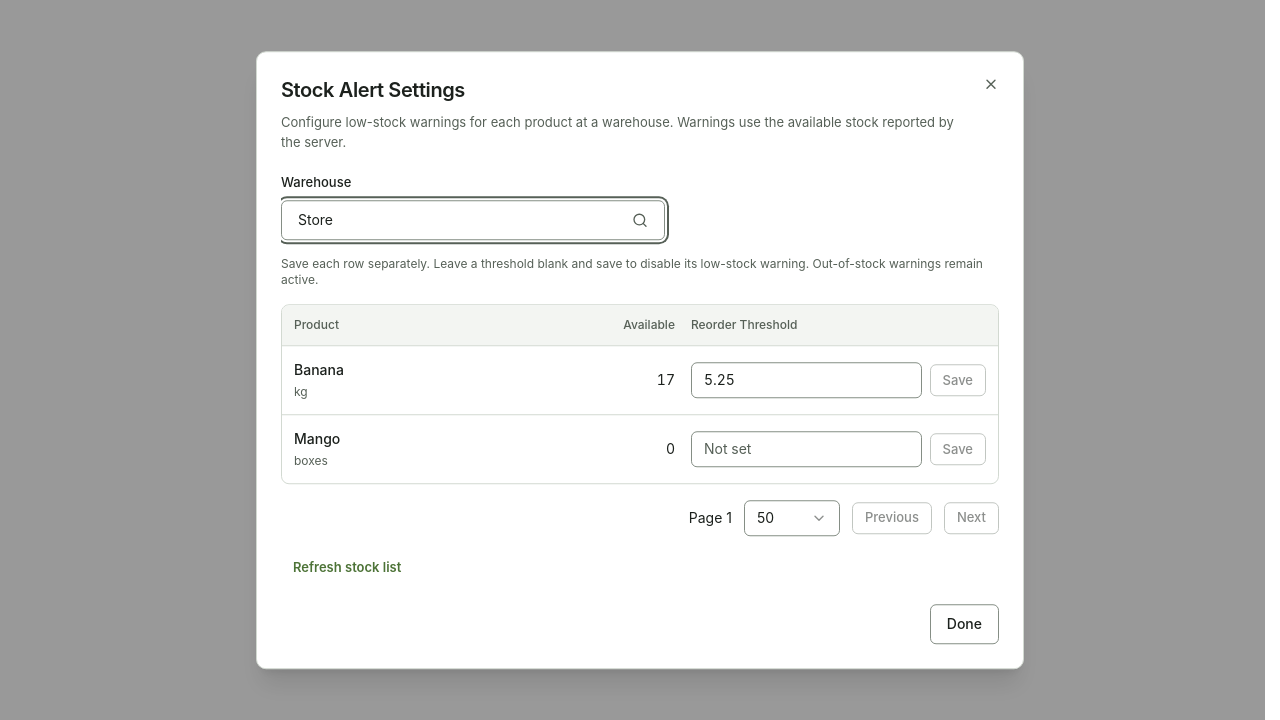
Test case: supports clearing a configured threshold with null and setting an unset threshold to zero
Clear the field named "Reorder threshold for Banana" at (806, 380), box [691,362,922,398]
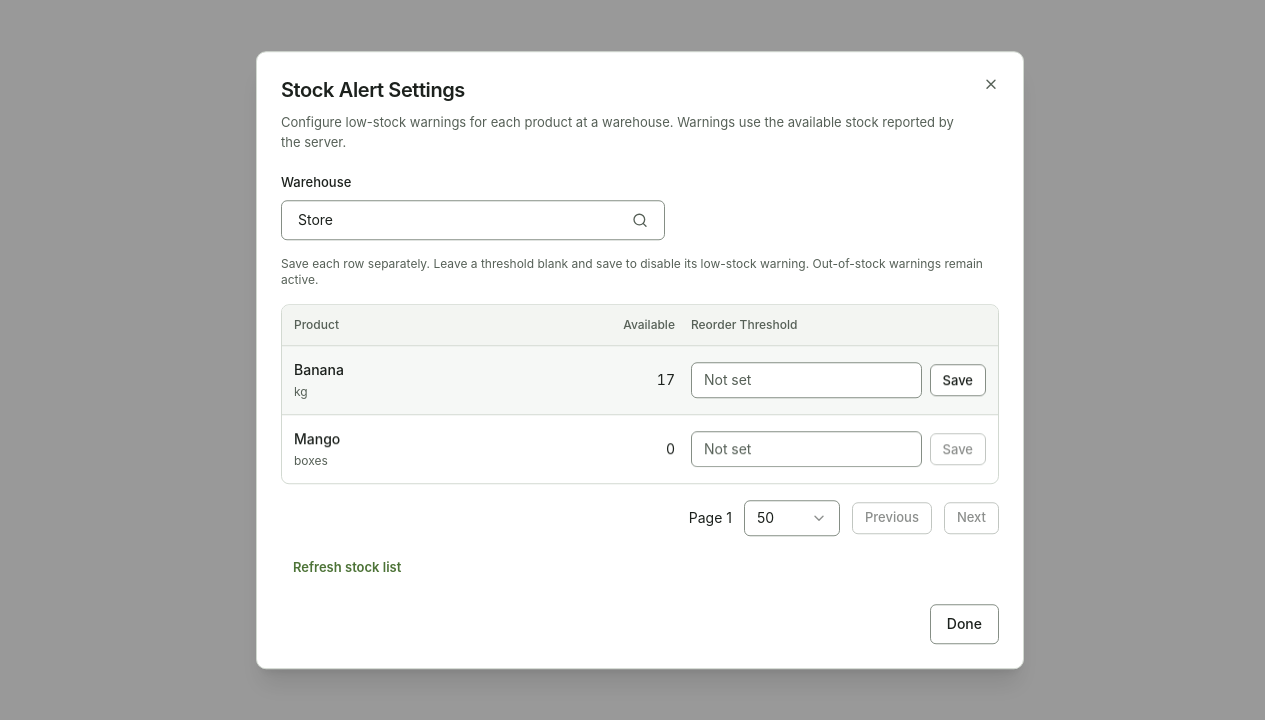
Click the button "Save" in the row of "Banana" at (958, 380), box [930,364,986,396]
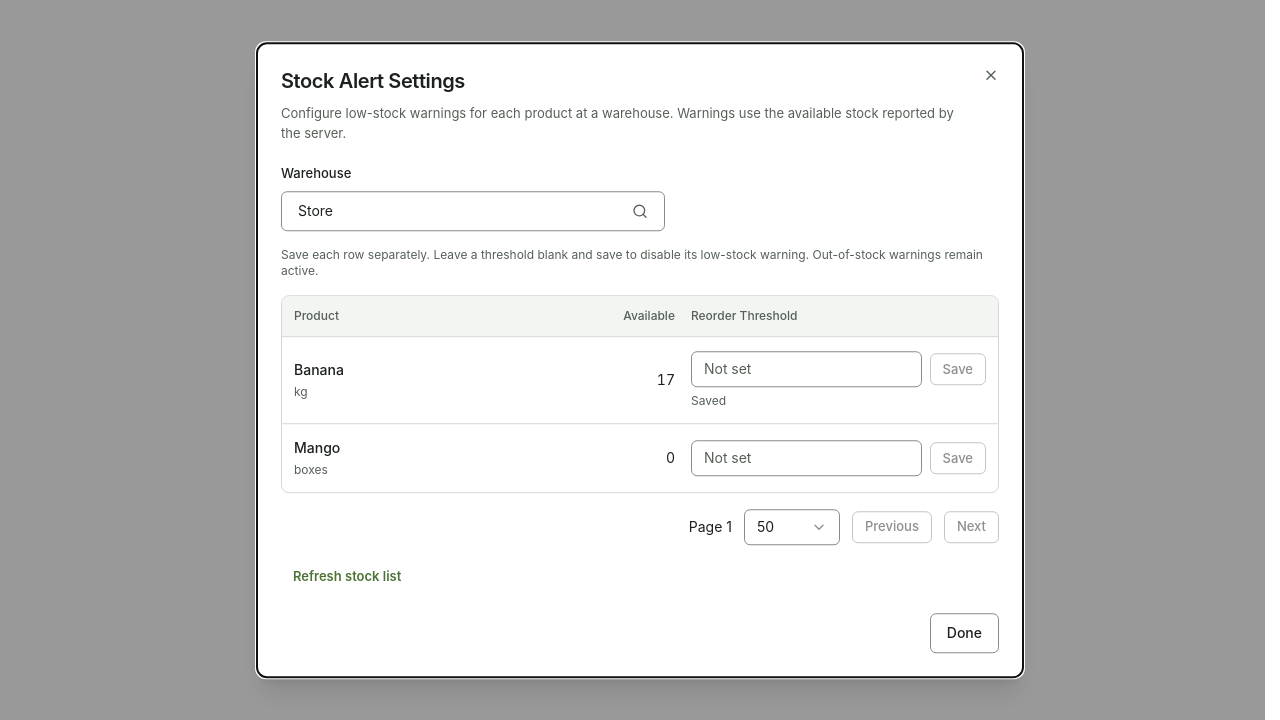
Expected: the text "Saved" is shown, [691,393,726,408]
Type "0.00" into the field with placeholder "Not set" in the row of "Mango" at (806, 458), box [691,440,922,476]
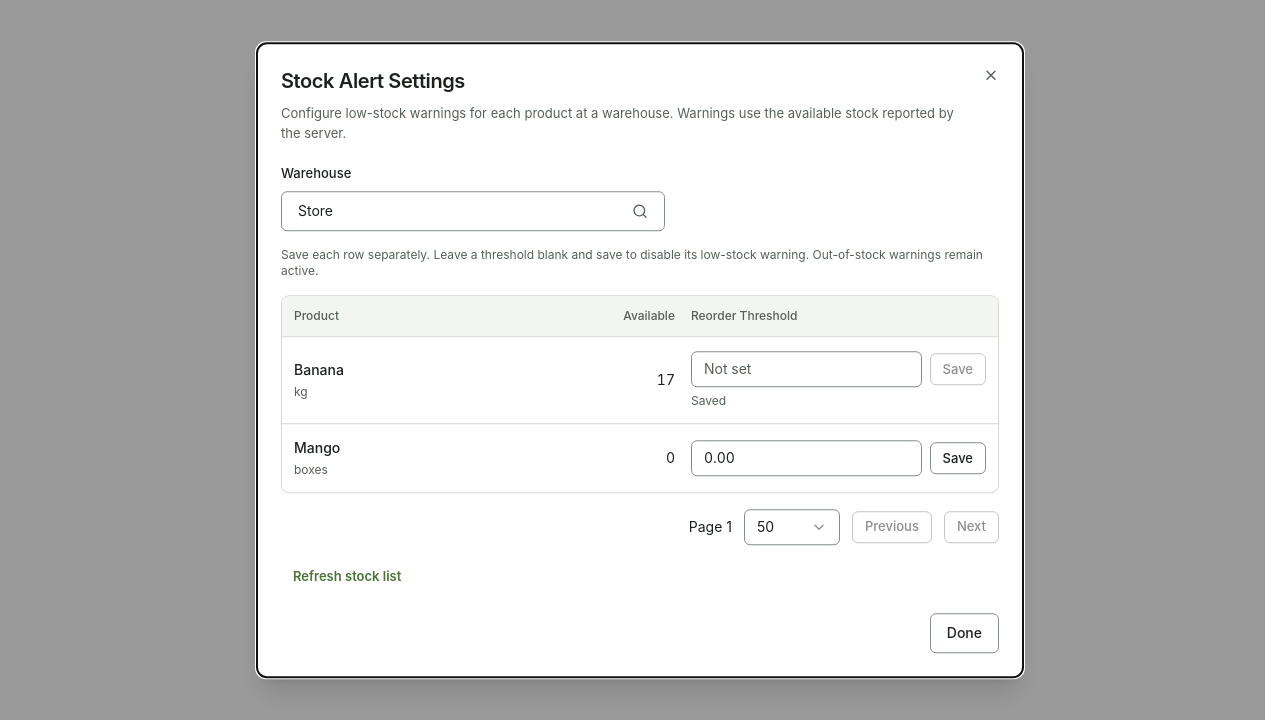
Click the button "Save" in the row of "Mango" at (958, 458), box [930,442,986,474]
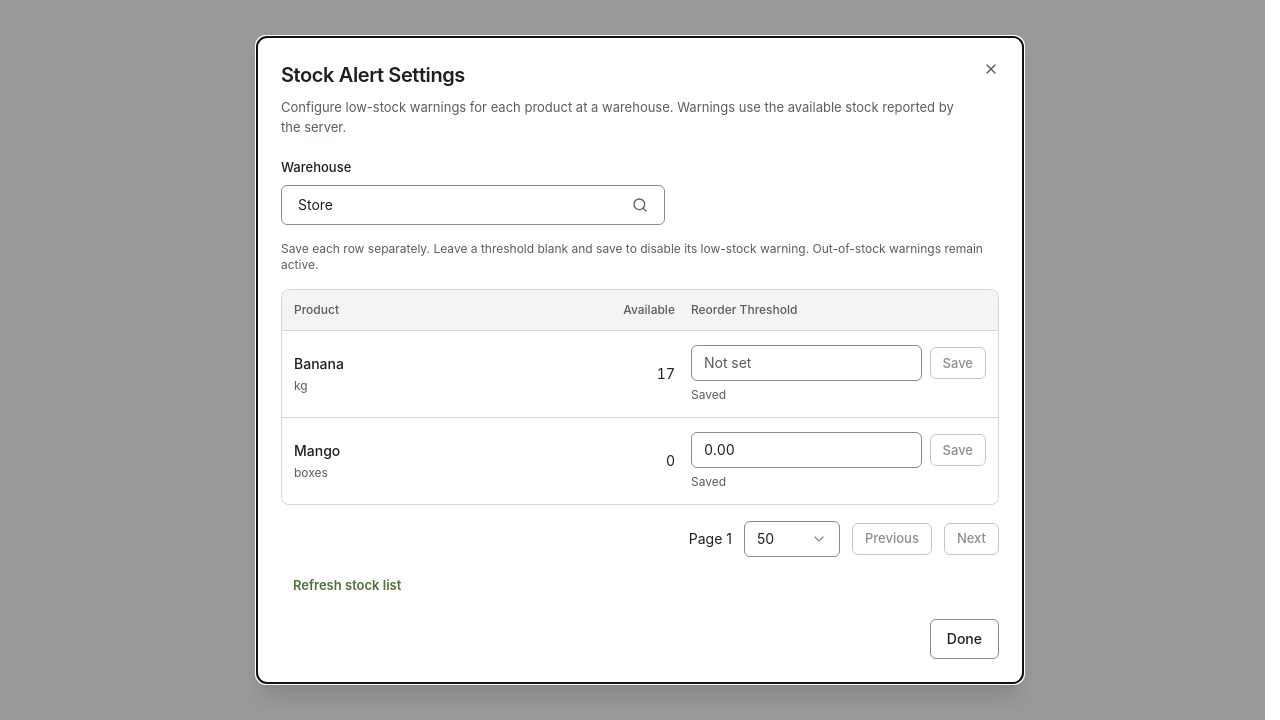
Expected: the text "Saved" is shown 2 times, [691,386,726,402]; [691,474,726,488]
